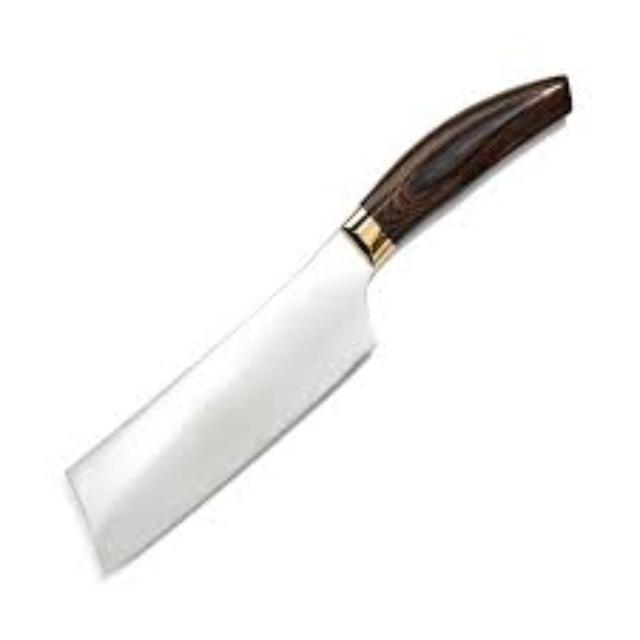Knife: (62, 71, 572, 574)
